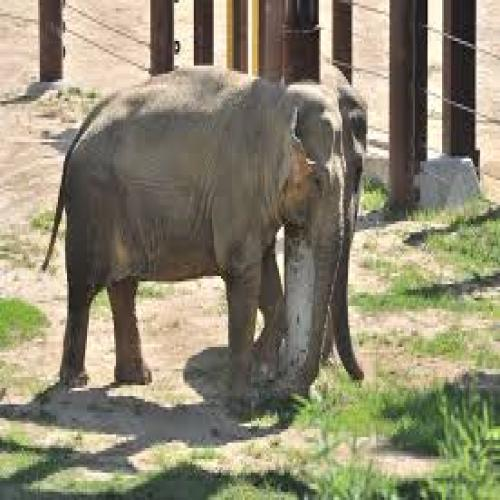asian_elephant-endangered: (40, 64, 347, 409), (314, 62, 366, 383)
